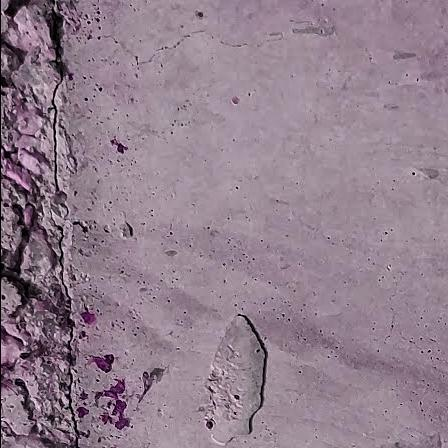crack: (39, 207, 93, 448), (99, 25, 284, 68), (45, 66, 65, 192)
spalling: (0, 130, 56, 322), (0, 1, 84, 89)
